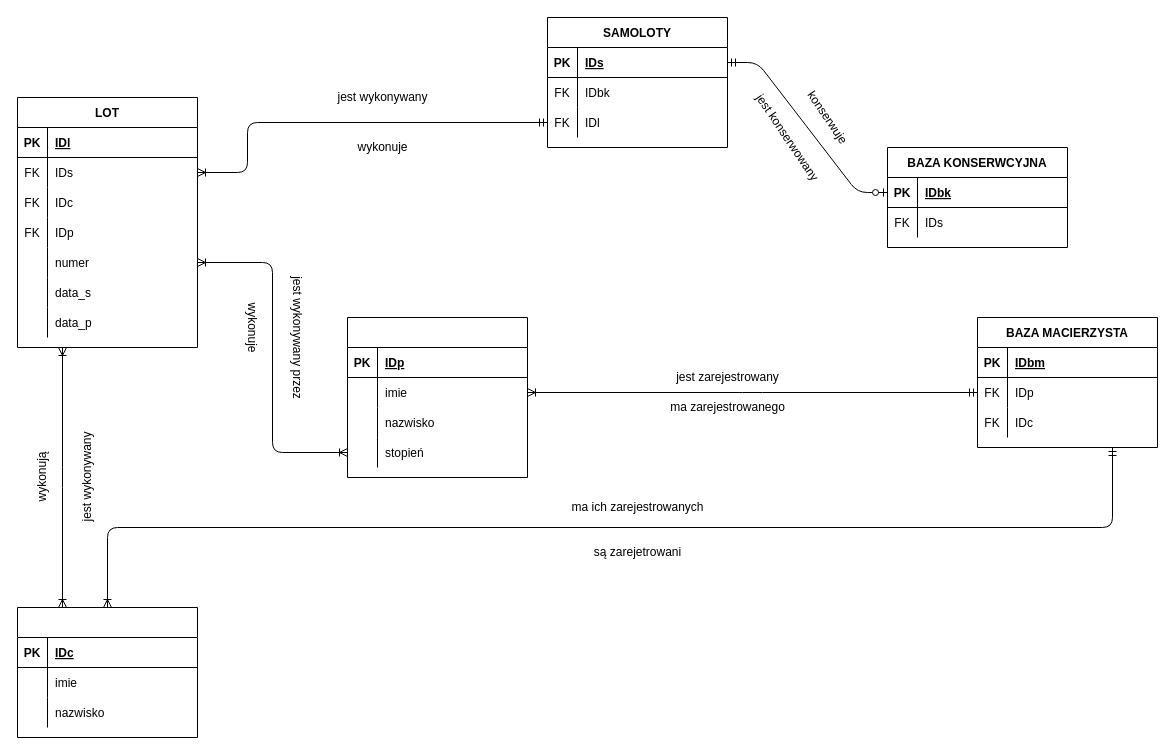
This 1175x755 diagram has some shape labels left out. Each missing label, with the box of its shape:
Członkowie załogi: (16, 606, 198, 738)
PILOT: (346, 316, 528, 478)
